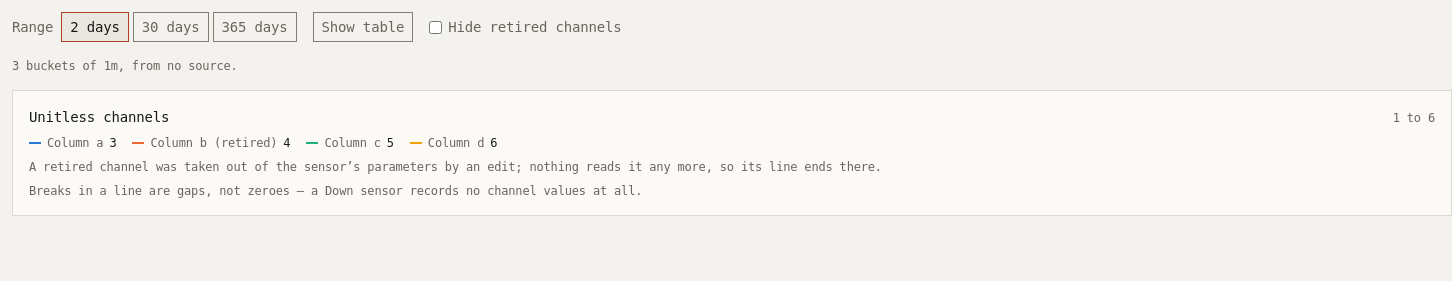
Scenario: hiding retired channels in the History tab › takes a middle series out and leaves every other one its own mark and colour
Expected: the text "Column b (retired)" is shown, [150,135,277,151]
Click the checkbox labelled "Hide retired channels" at (436, 27), box [429,20,442,34]
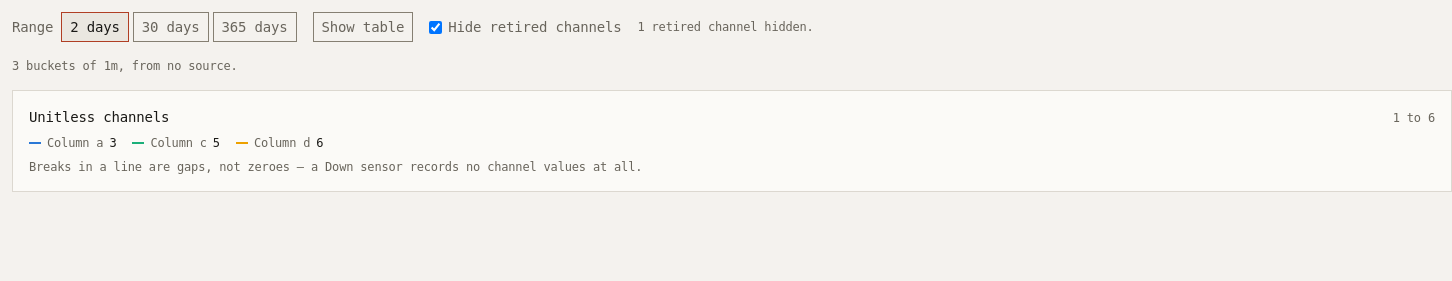
Result: the text "retired)" is gone
Result: the message "1 retired channel hidden." is shown at [638,19,814,35]
Result: the text "so its line ends there" is gone
# The table view leaves it out too.
Click the button "Show table" at (363, 27), box [313,12,413,42]
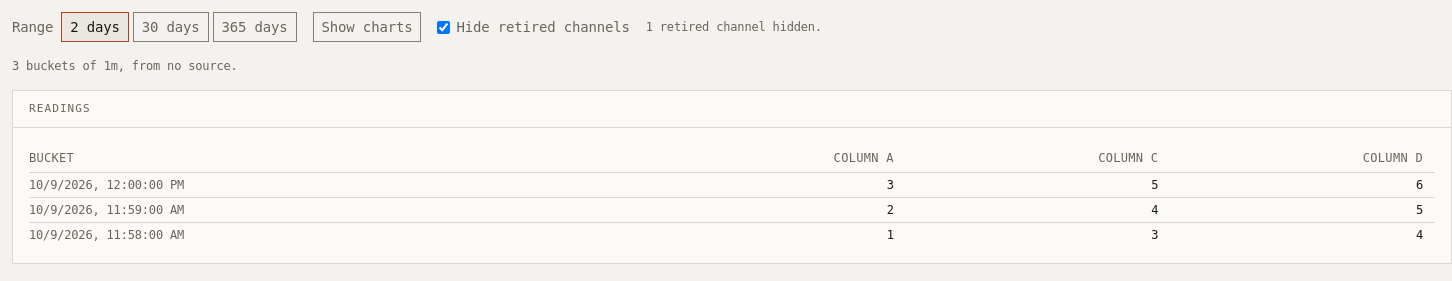
Expected: the text "Column b" is not shown
Expected: the column heading "Column c" is shown, [906,144,1170,172]
Click the checkbox labelled "Hide retired channels" at (444, 27), box [437,20,450,34]
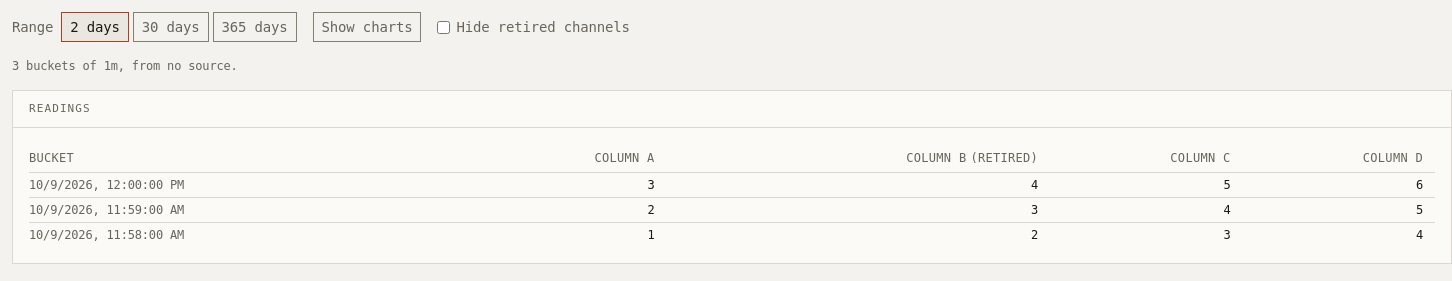
Result: the column heading named "Column b (retired)" is shown at [667,144,1050,172]
